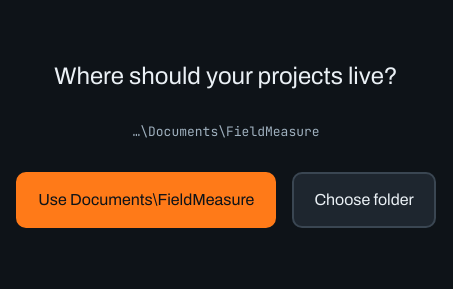
FirstRun › shows pickFailed and stays on step 2 when the picker rejects with a real error
Earlier steps of the test are not shown.
Click the button "Choose folder" at [364, 200], box [292,172,436,228]
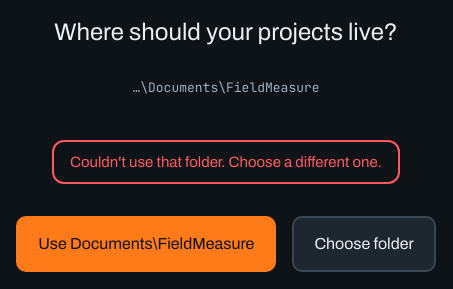
Check: the heading "Where should your projects live?" is shown, box [54,16,398,46]
Check: the text "Couldn't use that folder. Choose a different one." is shown, box [52,140,400,184]
